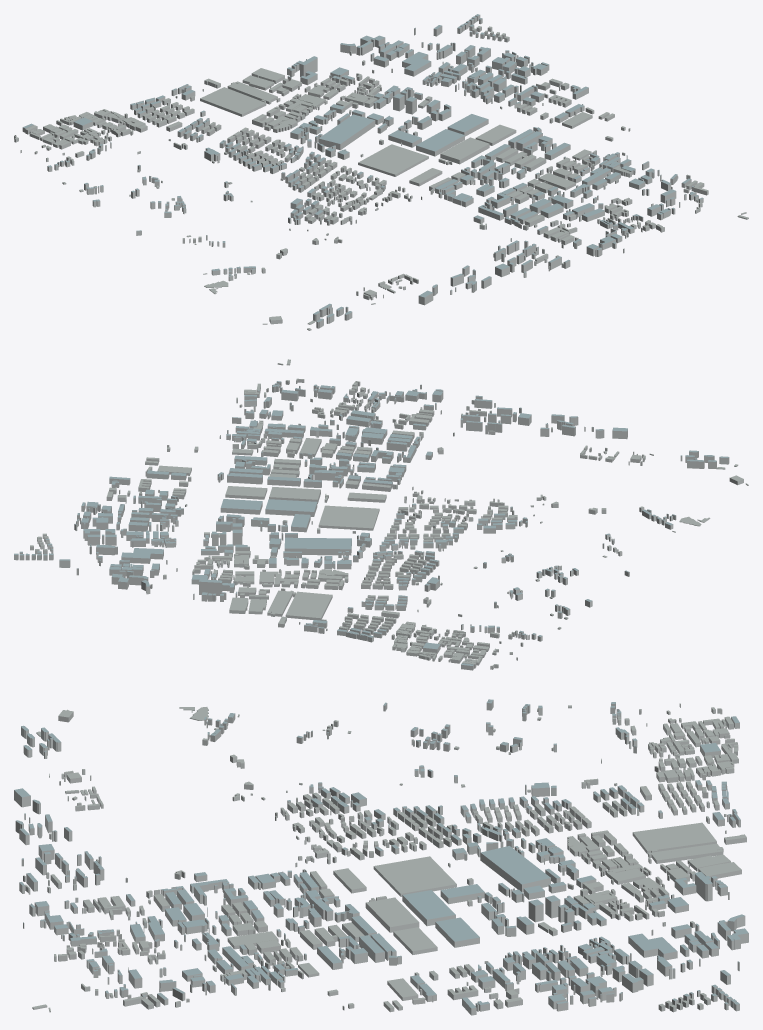
File: far.glb
3 views of the same model, one above another, from view 1: azimuth 30°, elevation 25°; view 2: azimuth 150°, elevation 25°; view 3: azimuth 270°, elevation 25° (orthographic). The views are drawn at different scales.
Bounding box in the file's own units: 2127 × 55 × 2138.
